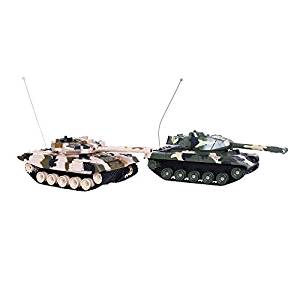Battle Tank: (147, 130, 288, 186), (18, 136, 153, 191)
